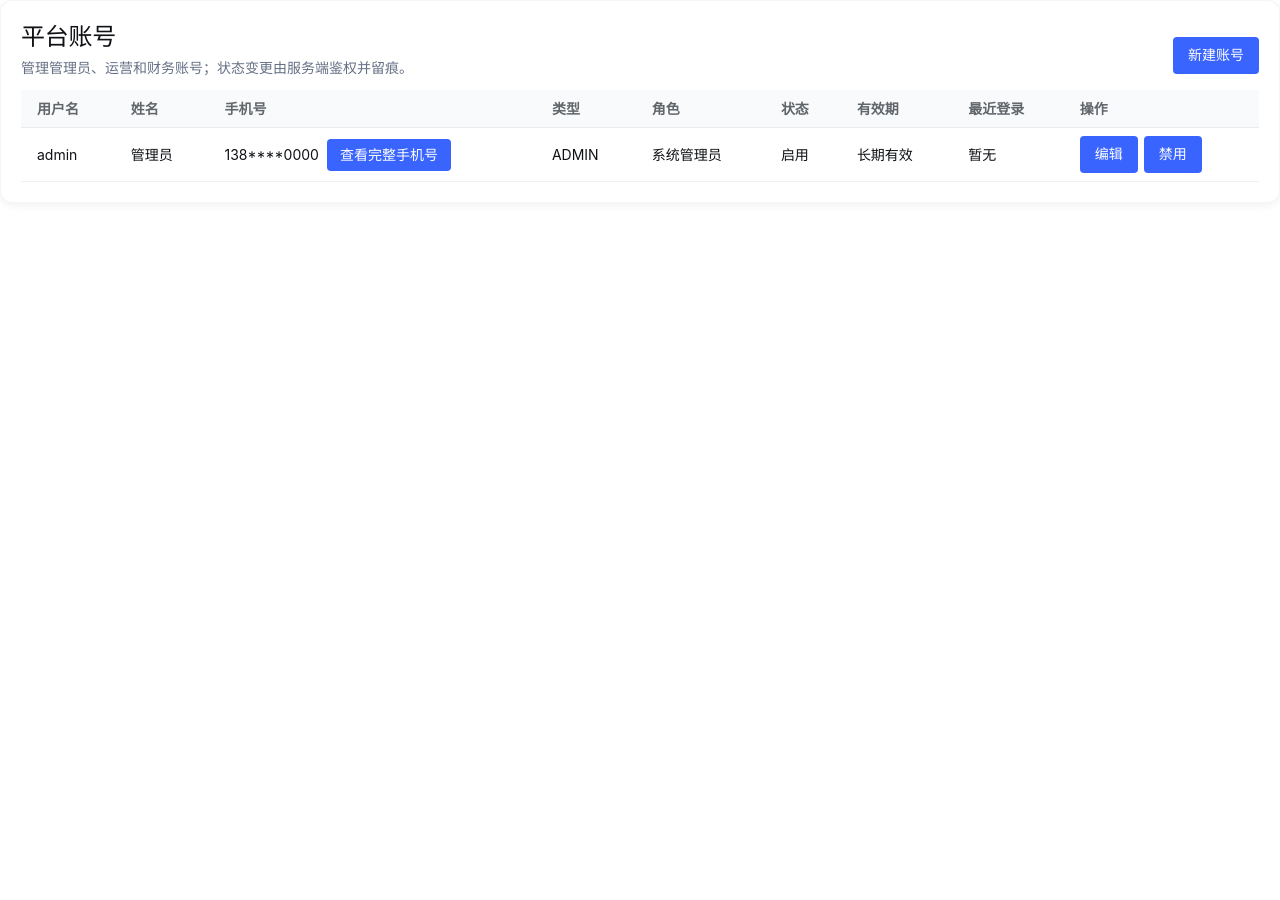
Test case: Phase 6 privileged audit UI › reveals a phone only for a controlled purpose and clears plaintext on close
Expected: the text with test id "shared-privileged-data-sensitive-value" reads "138****0000", [224,146,319,163]
Expected: the text "13800138000" is not shown
Click the button with test id "shared-privileged-data-sensitive-value-reveal" at (389, 155), box [327,139,451,171]
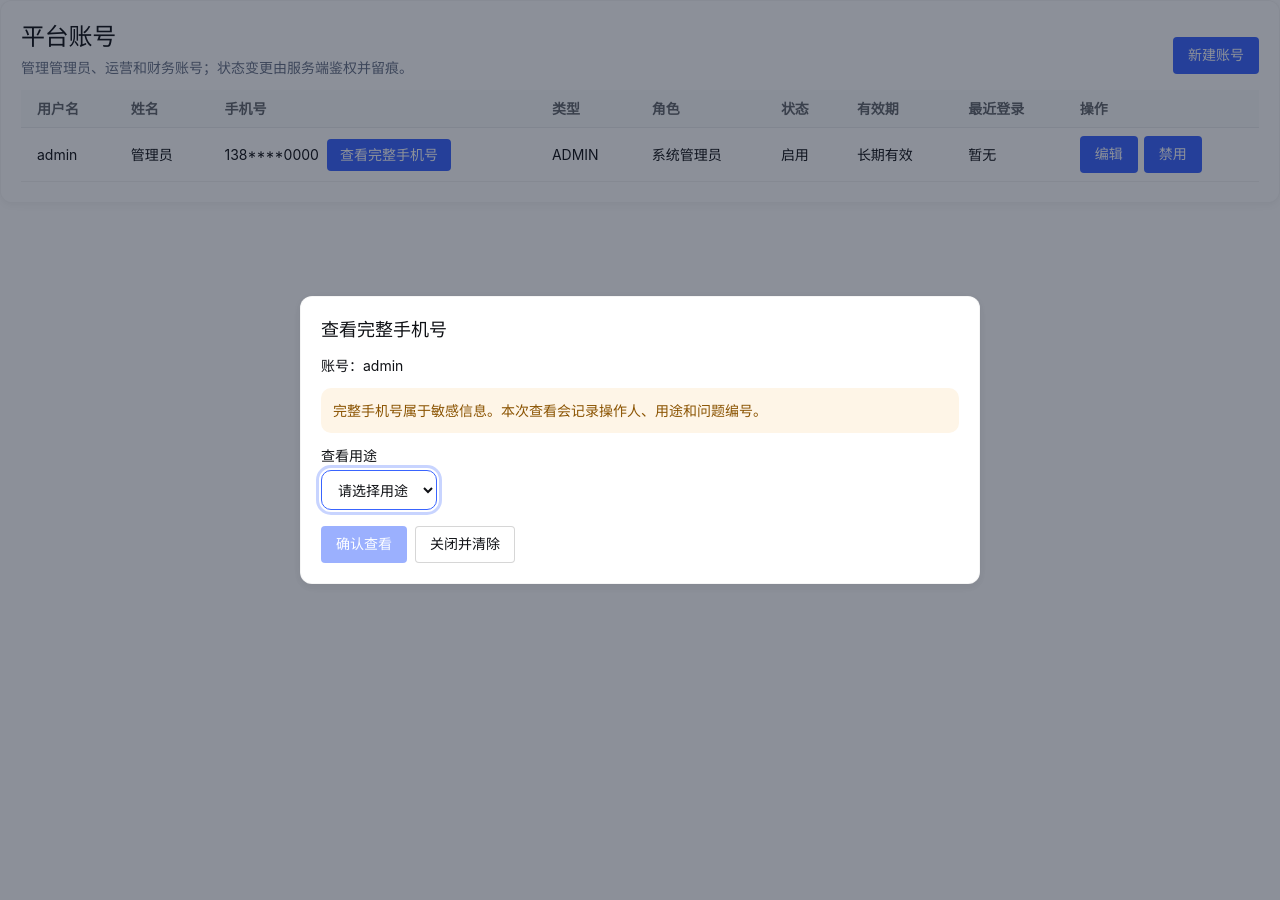
Result: the button with test id "shared-privileged-data-sensitive-value-confirm" is disabled at [321,526,407,563]
Select "安全调查" in the dropdown with test id "shared-privileged-data-sensitive-value-purpose" at (379, 490), box [321,470,437,510]
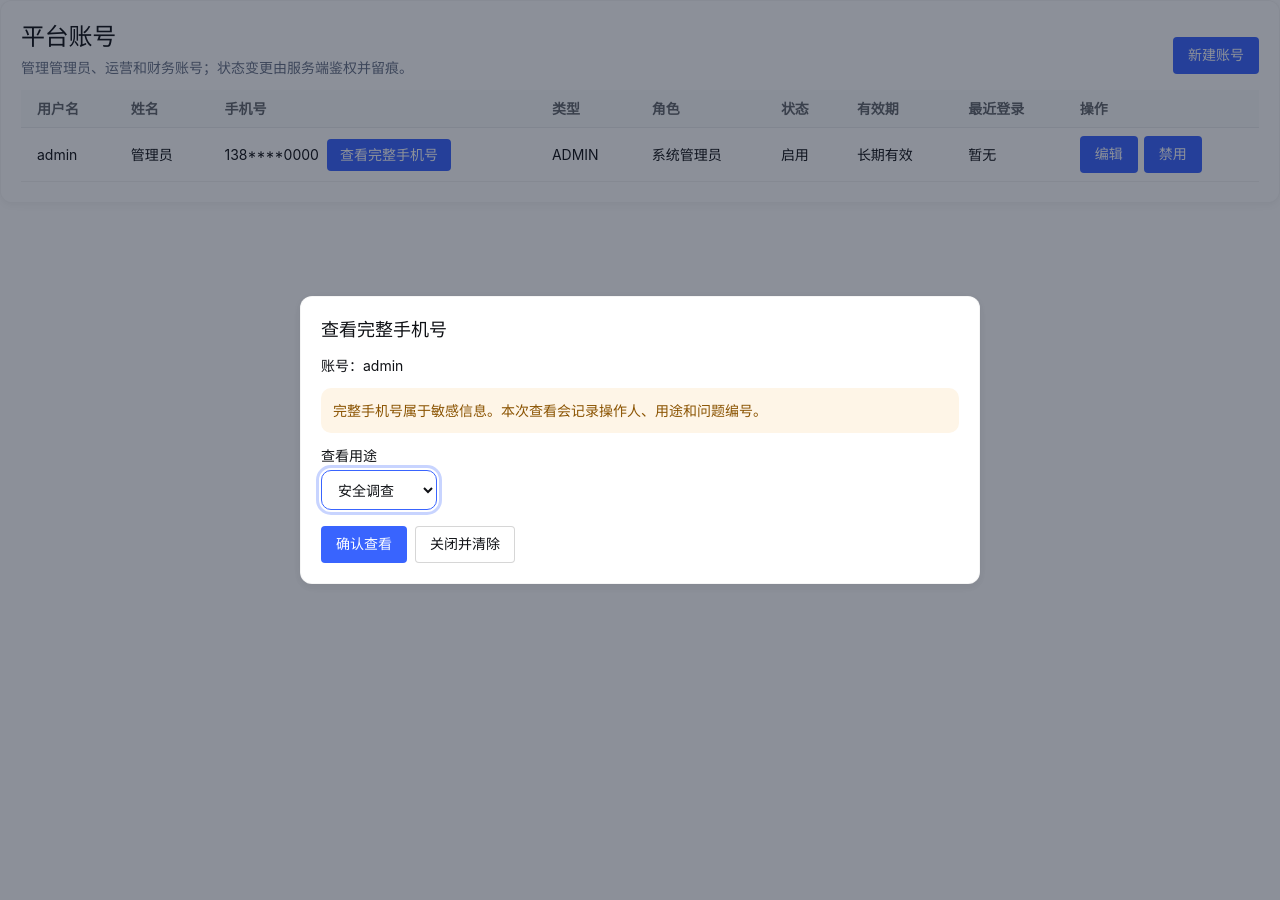
Click the button with test id "shared-privileged-data-sensitive-value-confirm" at (364, 544), box [321,526,407,563]
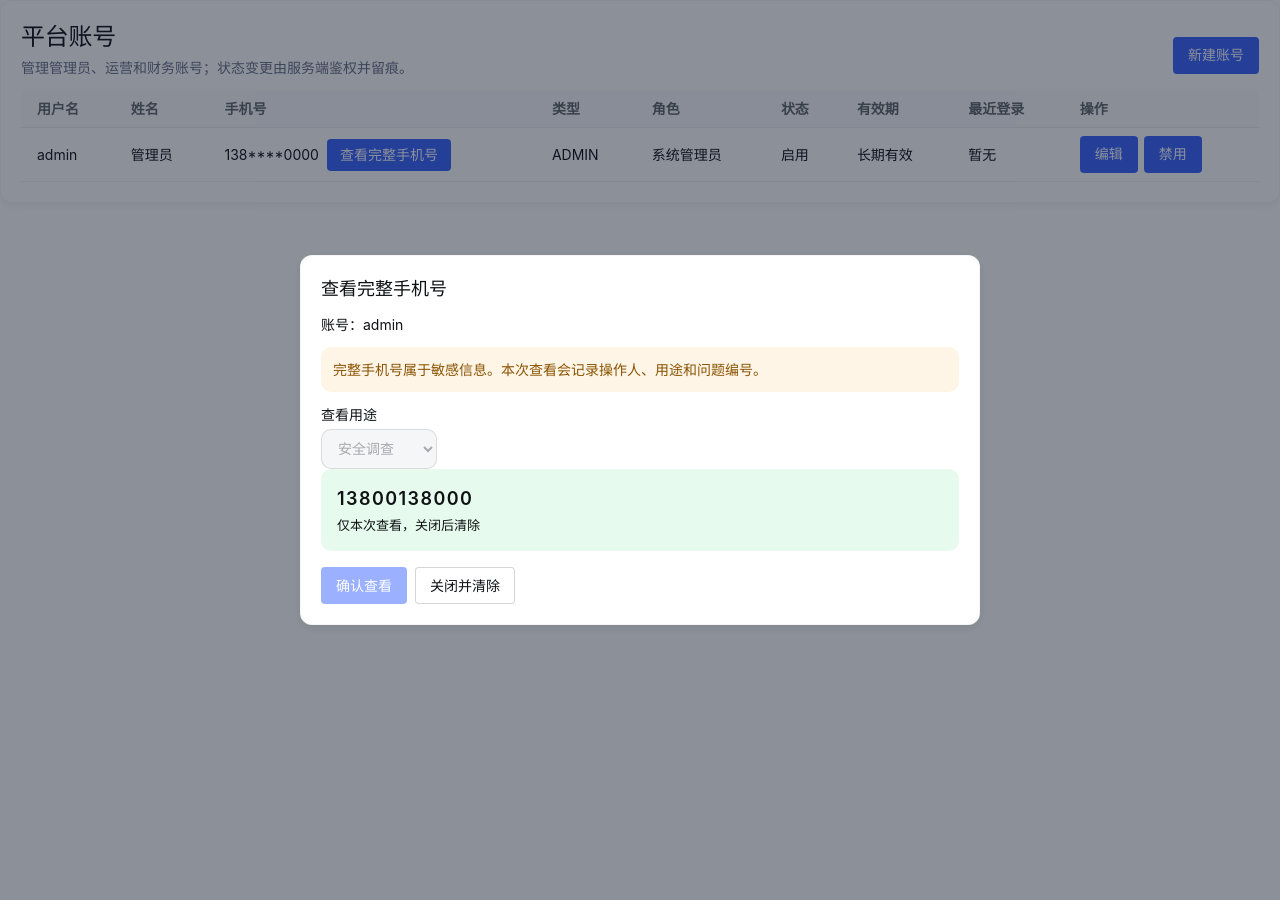
Result: the element with test id "shared-privileged-data-sensitive-value-result" shows "13800138000" at [337,488,473,509]
Click the button with test id "shared-privileged-data-sensitive-value-close" at (465, 586), box [415,567,515,604]
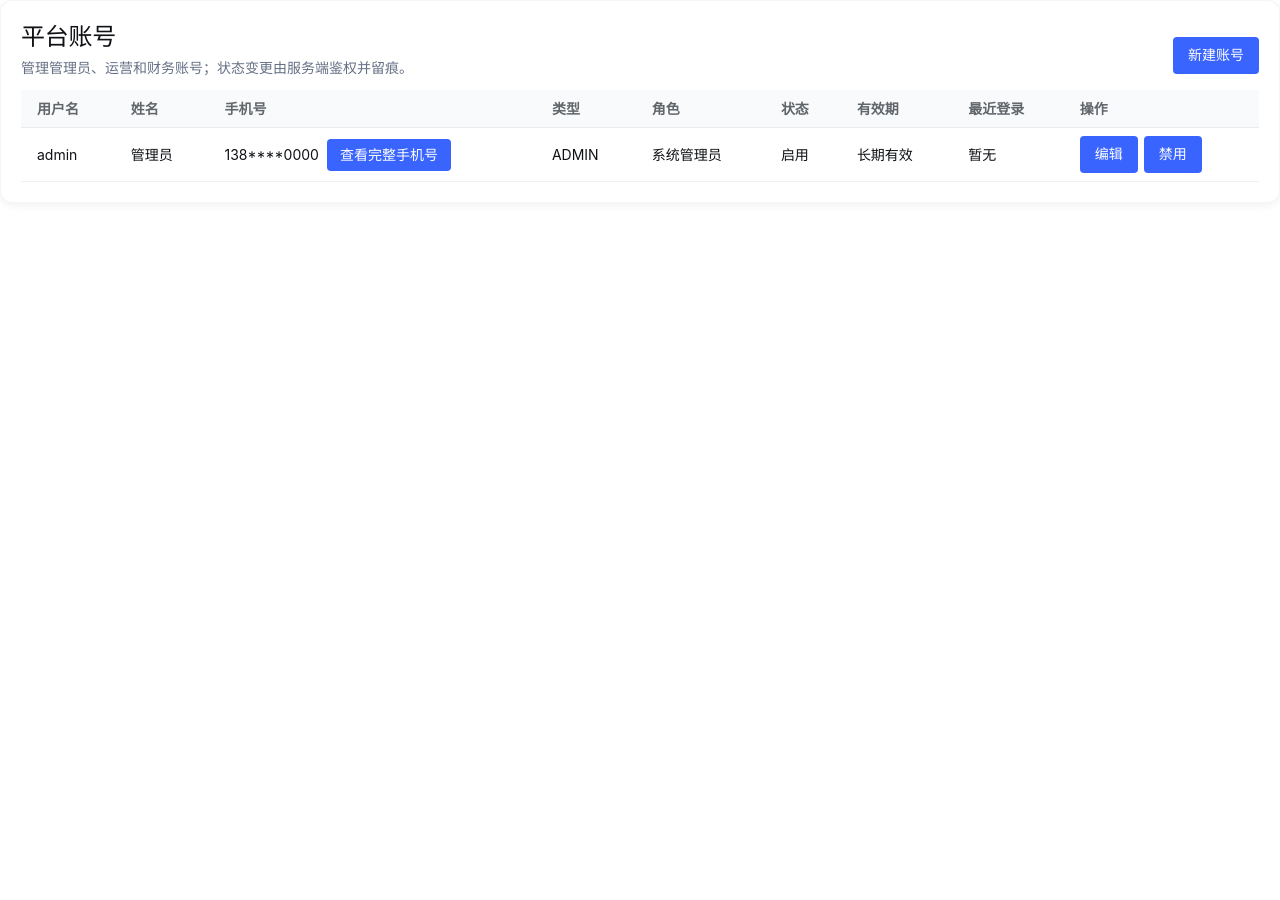
Expected: the text with test id "shared-privileged-data-sensitive-value" reads "138****0000", [224,146,319,163]
Result: the text "13800138000" is gone
